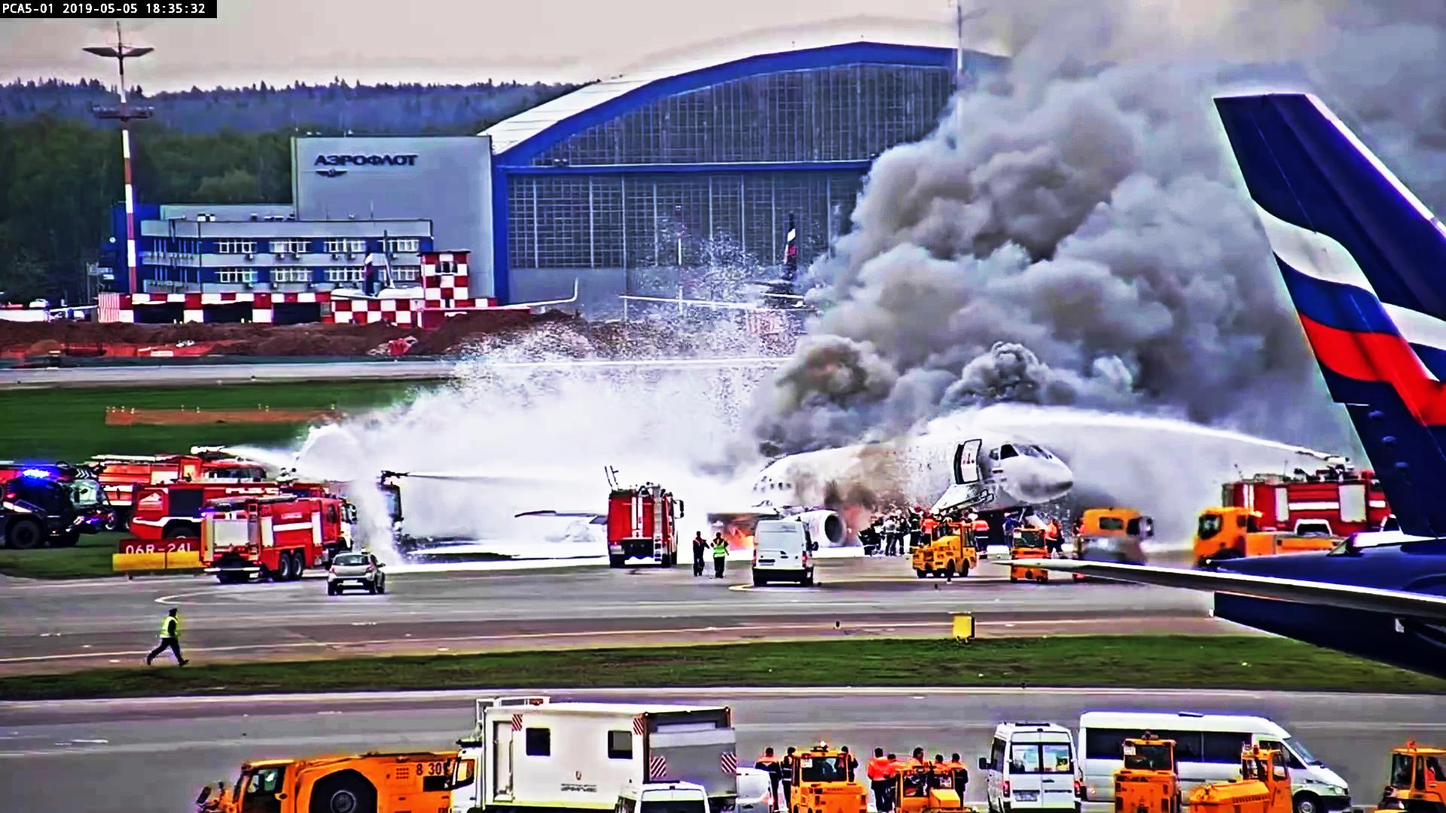smoke: (893, 147, 1114, 383)
